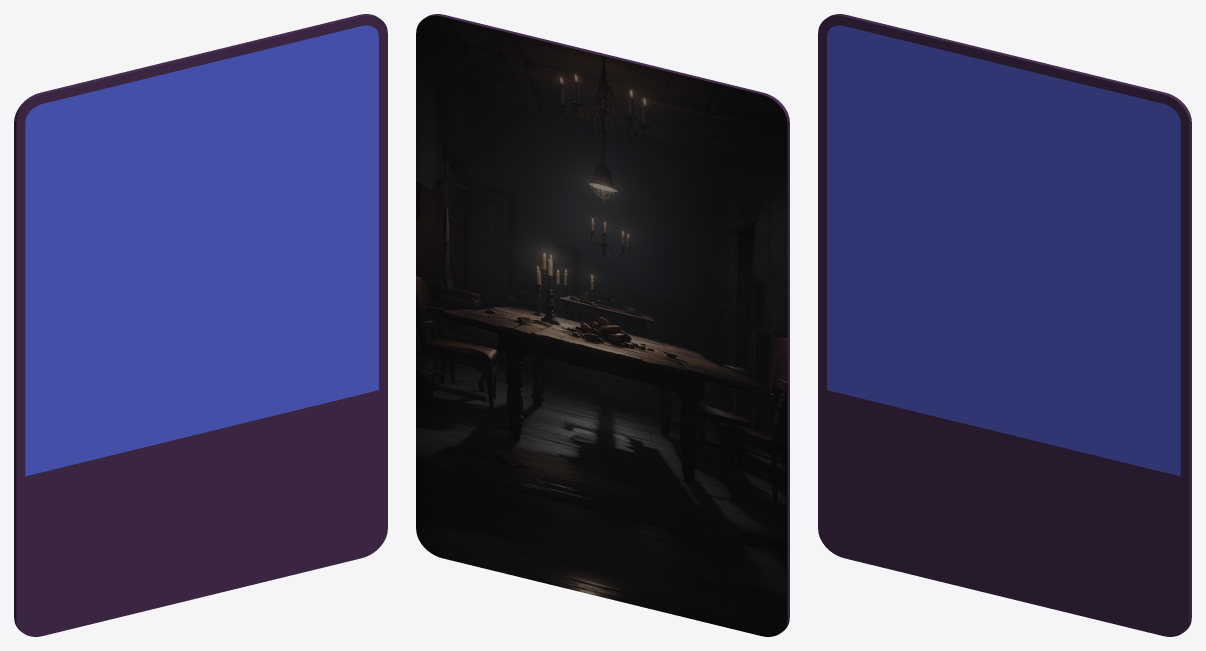
Rendered from card.glb.
The picture shows the model from 3 angles, left to right: view 1: azimuth 30°, elevation 25°; view 2: azimuth 150°, elevation 25°; view 3: azimuth 330°, elevation 25°; orthographic projection.
Parts seen in each view (by area): view 1: Card; view 2: Card; view 3: Card.
Boxes of the visible parts, bbox=[...] form: Card: bbox=[14, 14, 387, 636]; Card: bbox=[416, 14, 789, 636]; Card: bbox=[818, 14, 1191, 636].
Bounding box in the file's own units: 1 × 1.39 × 0.0109.
3 materials, 1 textured.
